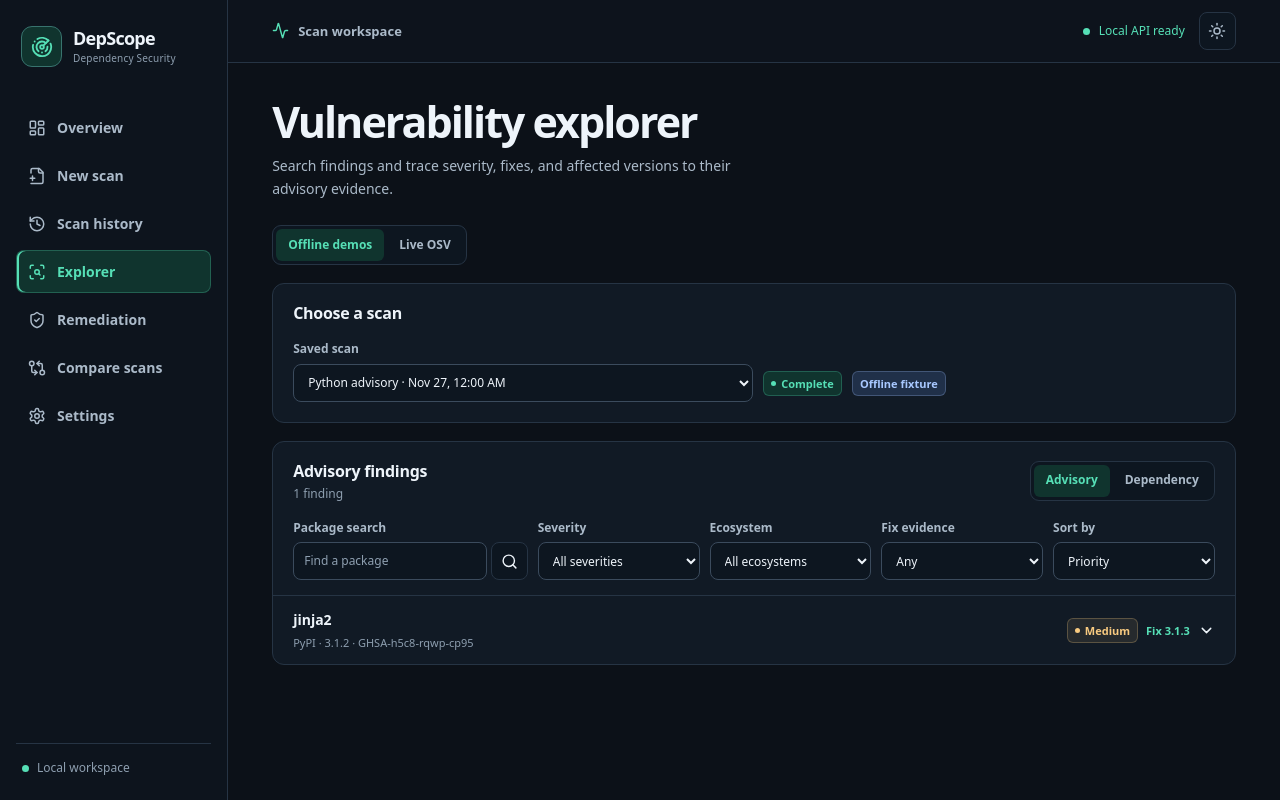
Test: Phase 4 analysis and reports › filters dependency groups and fetches exact-version advisories on expansion
This screenshot has width=1280, height=800.
Click the button "Dependency". click: click(1162, 481)
box: [1113, 465, 1211, 497]
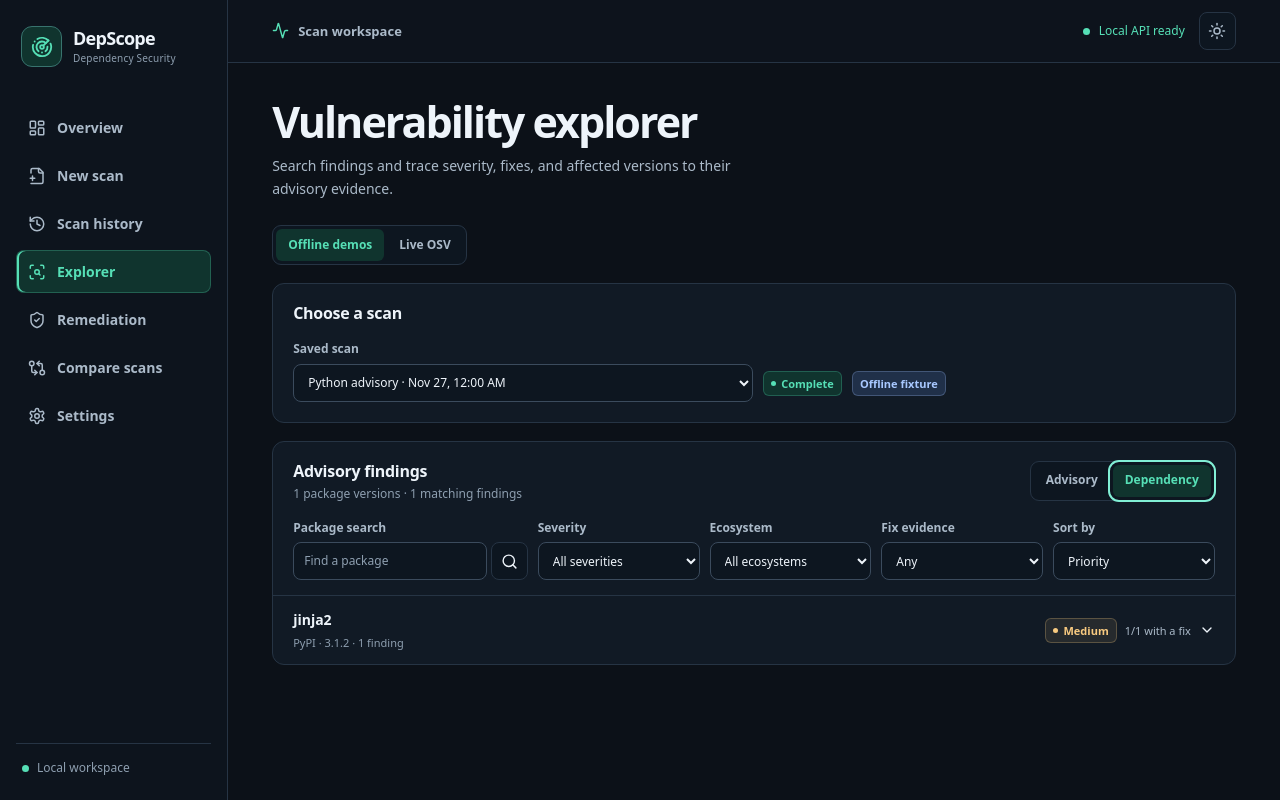
Click the text "jinja2". click: click(312, 620)
box: [293, 610, 332, 630]
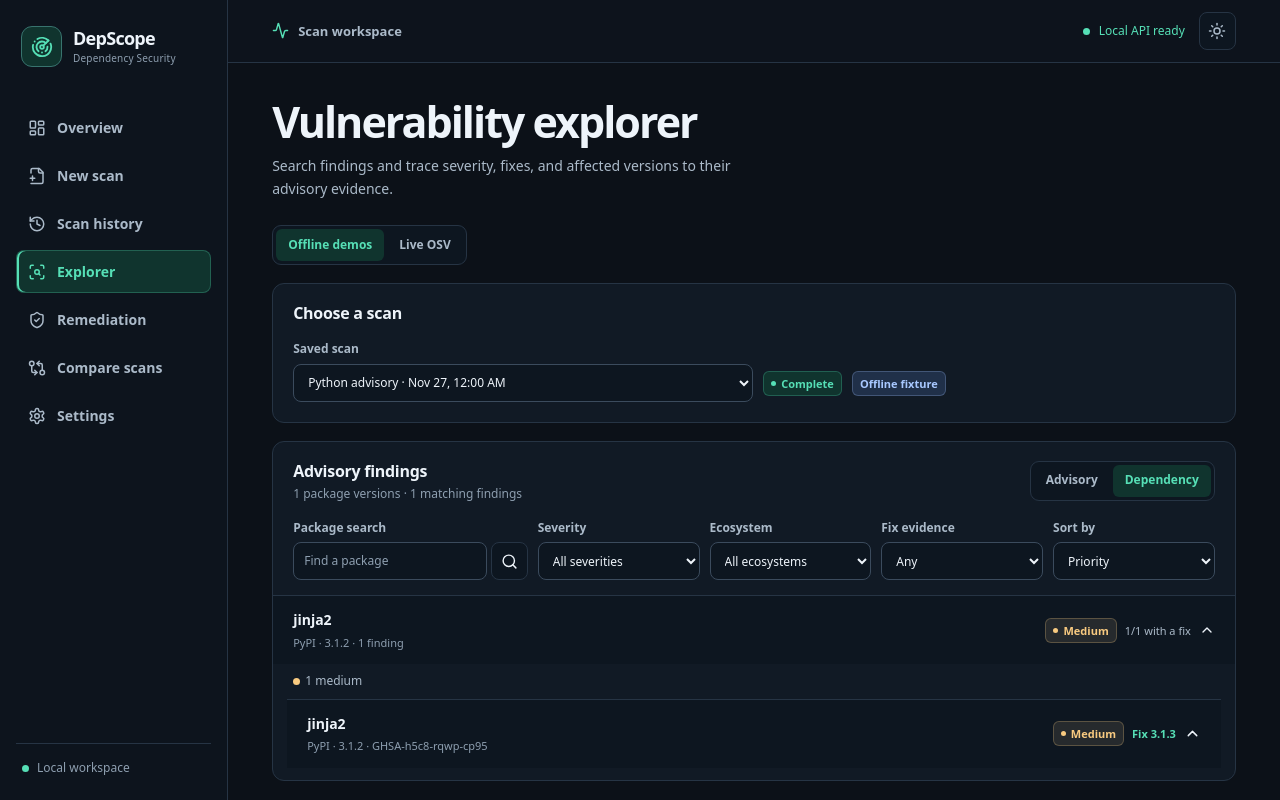
Now the element named "Severity distribution" reads "1 medium", box [293, 672, 362, 689]
Select "high" in the dropdown labelled "Severity". click: (619, 562)
box: [538, 542, 700, 580]
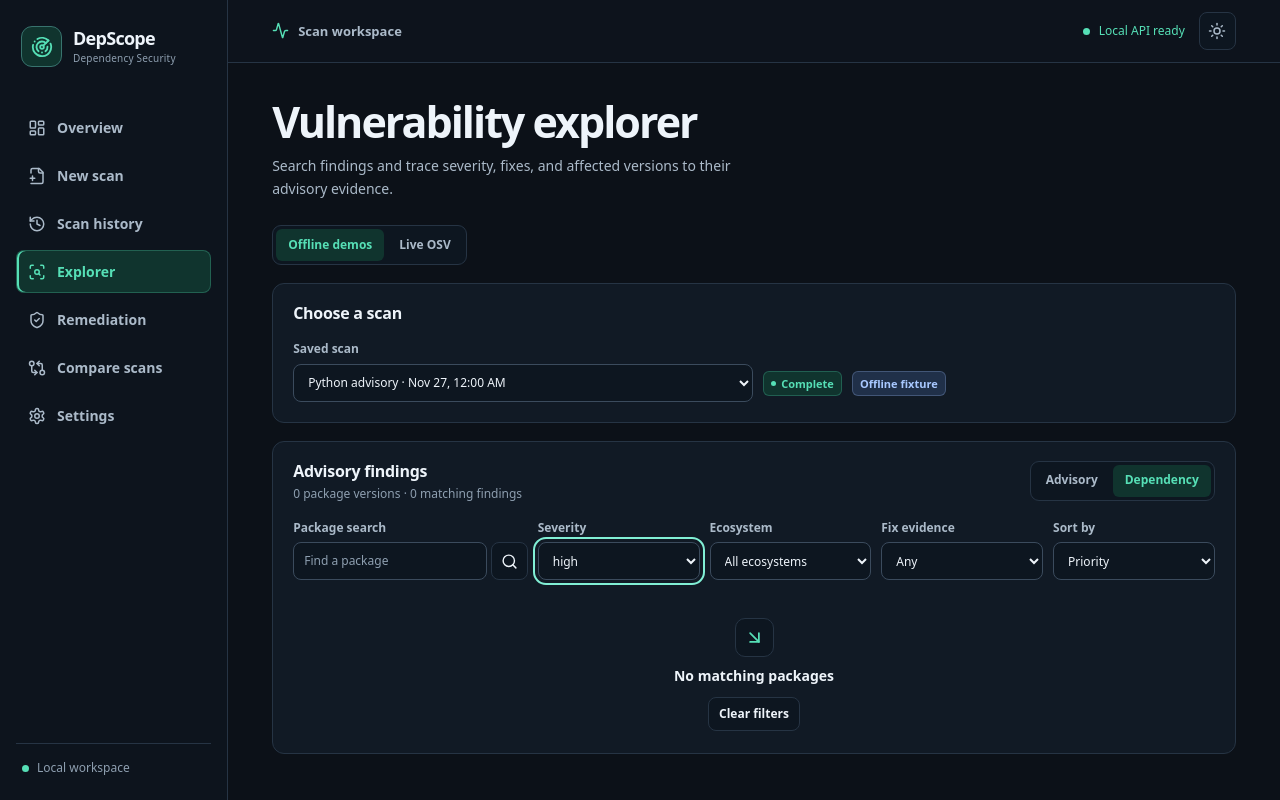
Now the heading "No matching packages" is shown, box [674, 665, 834, 686]
